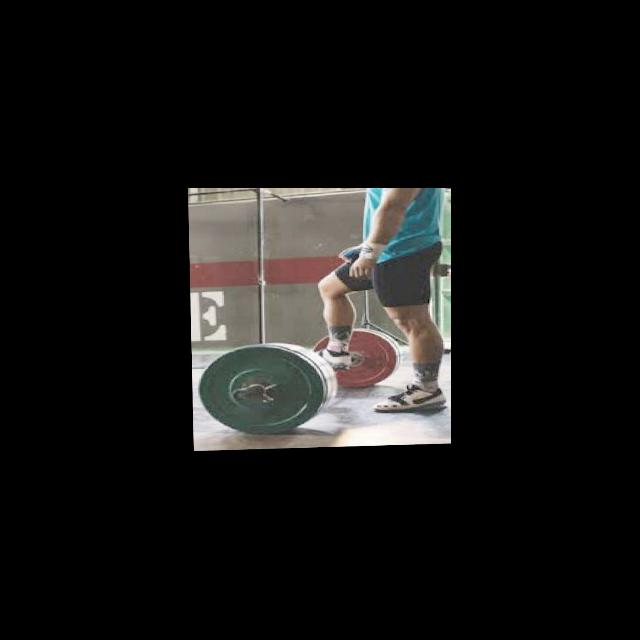barbell: (193, 341, 327, 439)
